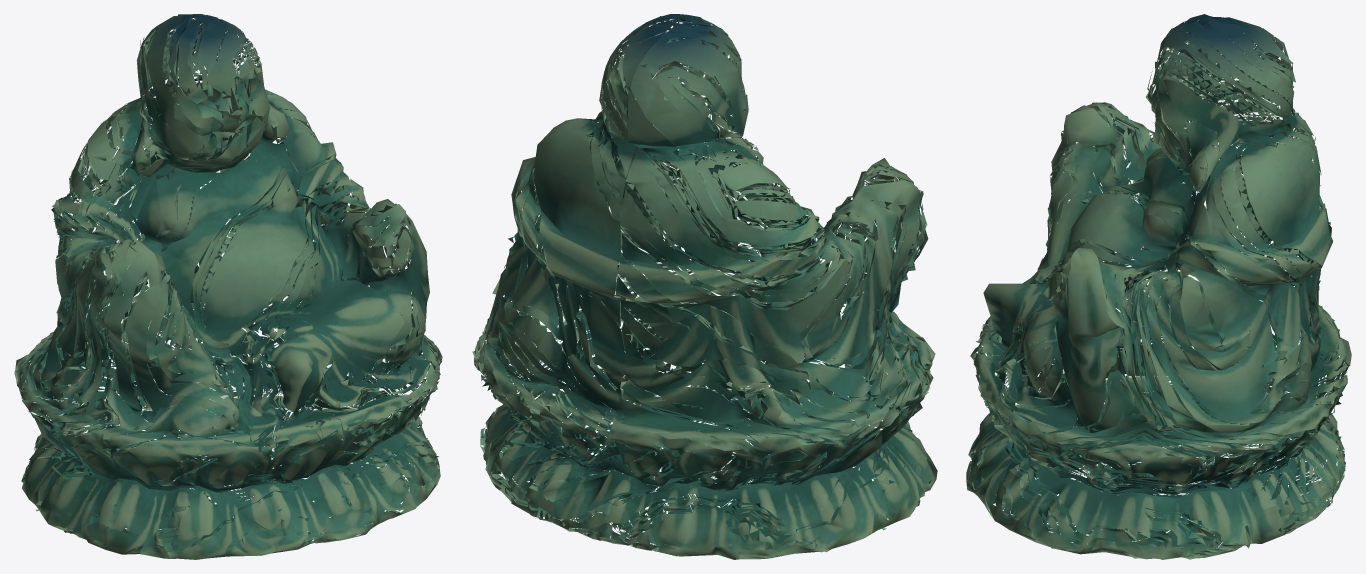
3 views of the same model, side by side, from view 1: azimuth 30°, elevation 25°; view 2: azimuth 150°, elevation 25°; view 3: azimuth 270°, elevation 25° (orthographic). The views are drawn at different scales.
Parts seen in each view (by area): view 1: statue-056; view 2: statue-056; view 3: statue-056.
Part boxes in pixels (<box>): statue-056: <box>14,14,442,559</box>; statue-056: <box>472,14,937,559</box>; statue-056: <box>966,14,1351,559</box>.
Bounding box in the file's own units: 0.9083 × 1.01 × 0.7844.
1 material, 1 textured.
